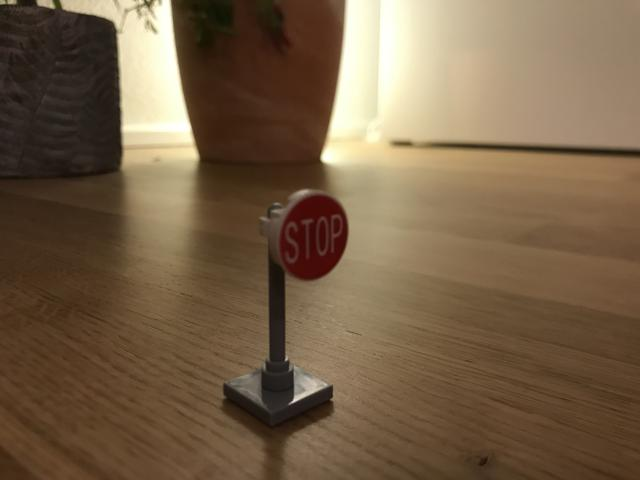stop: (274, 191, 350, 280)
